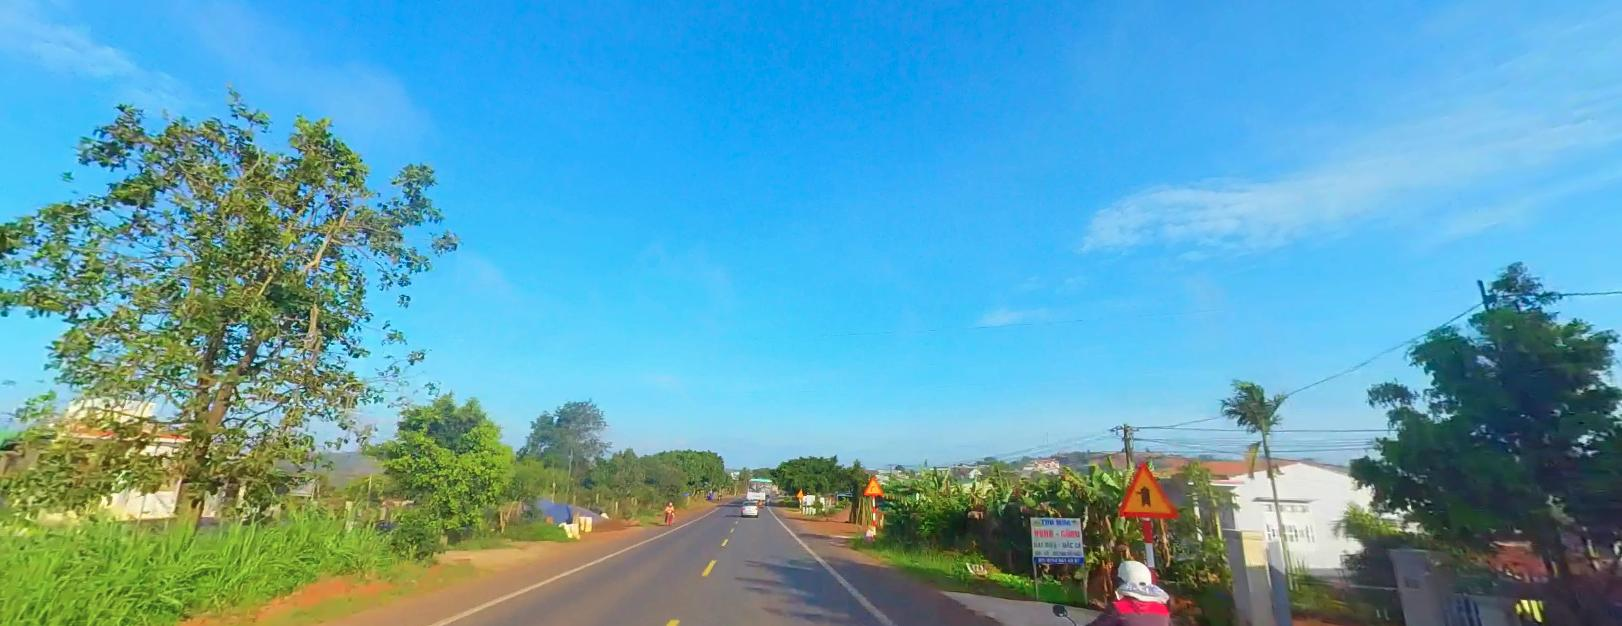Nguy hiem: (1117, 461, 1181, 520), (861, 473, 883, 494), (795, 487, 802, 496)
